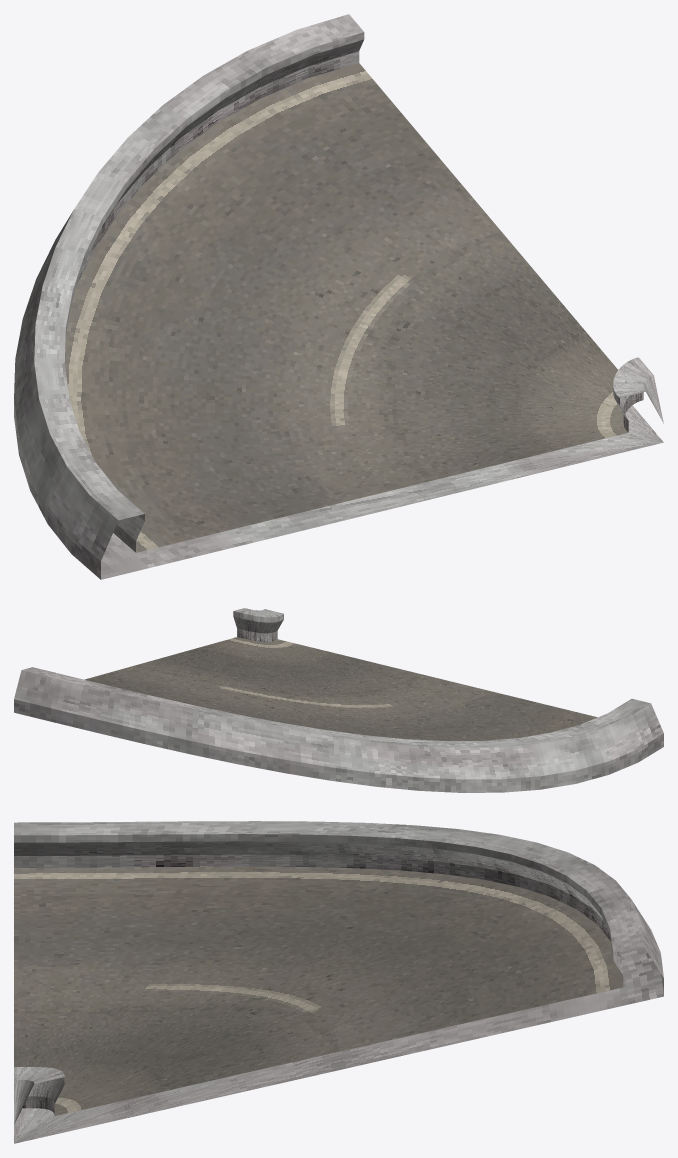
Rendered from road-Turn-Flat-HalfBankedRight-Even-Right-Size1.glb.
The picture shows the model from 3 angles, top to bottom: view 1: azimuth 30°, elevation 25°; view 2: azimuth 150°, elevation 25°; view 3: azimuth 270°, elevation 25°; orthographic projection. The views are drawn at different scales.
Parts seen in each view (by area): view 1: road-Turn-Flat-HalfBankedRight-Even-Right-Size1; view 2: road-Turn-Flat-HalfBankedRight-Even-Right-Size1; view 3: road-Turn-Flat-HalfBankedRight-Even-Right-Size1.
Part boxes in pixels (x1,y1,x2,y2): road-Turn-Flat-HalfBankedRight-Even-Right-Size1: (14, 14, 663, 579); road-Turn-Flat-HalfBankedRight-Even-Right-Size1: (14, 608, 663, 792); road-Turn-Flat-HalfBankedRight-Even-Right-Size1: (14, 821, 663, 1143).
Bounding box in the file's own units: 1 × 0.3359 × 1.
Materials: 2 (2 with a texture image).
